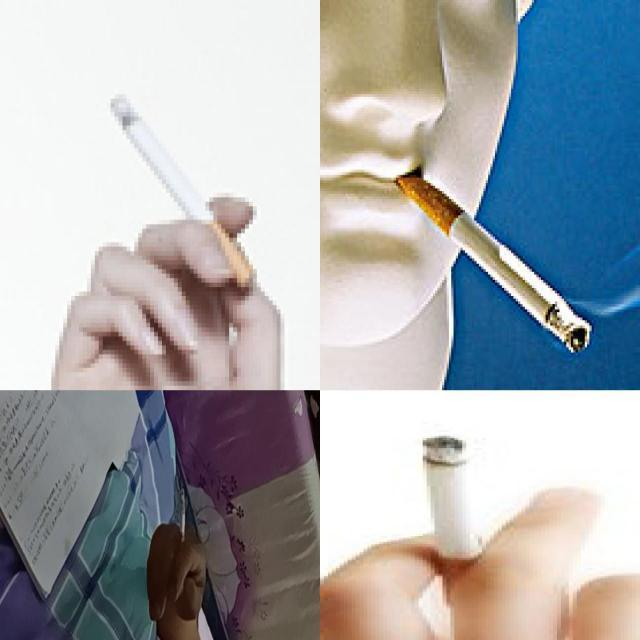cigarette: (391, 170, 589, 352), (110, 94, 258, 292), (420, 436, 484, 607), (180, 488, 186, 553)
